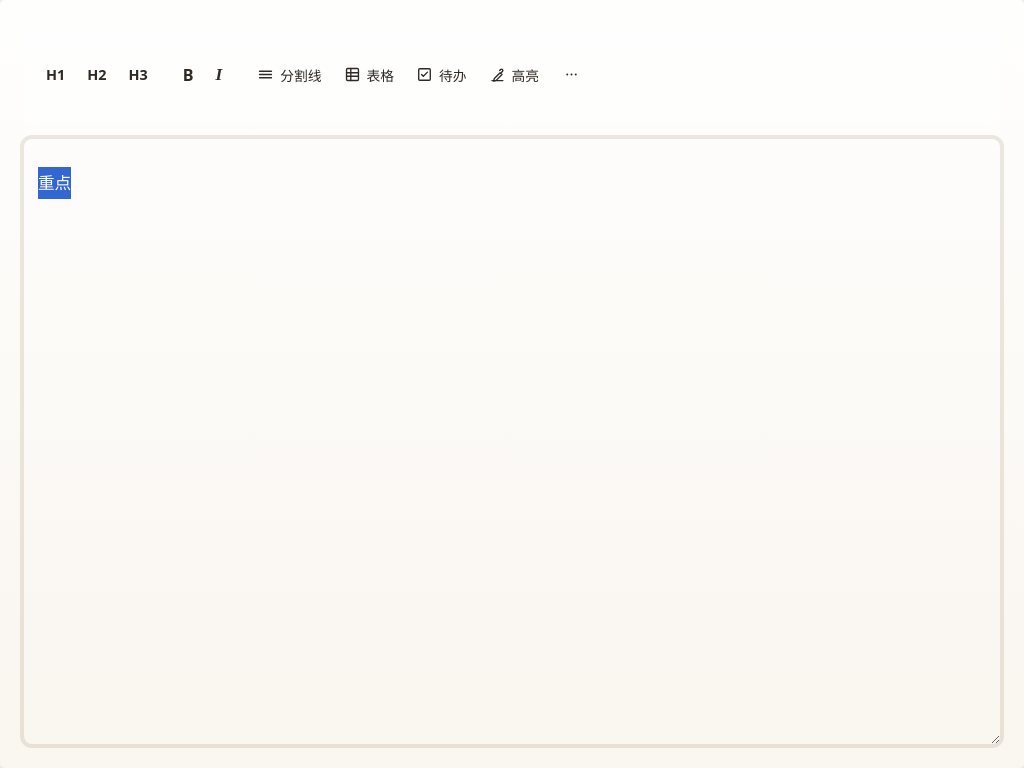
markdown editor › wraps a selection when the bold toolbar button is clicked
Click the button named "粗体" at (188,74), box 173,58 -> 204,92
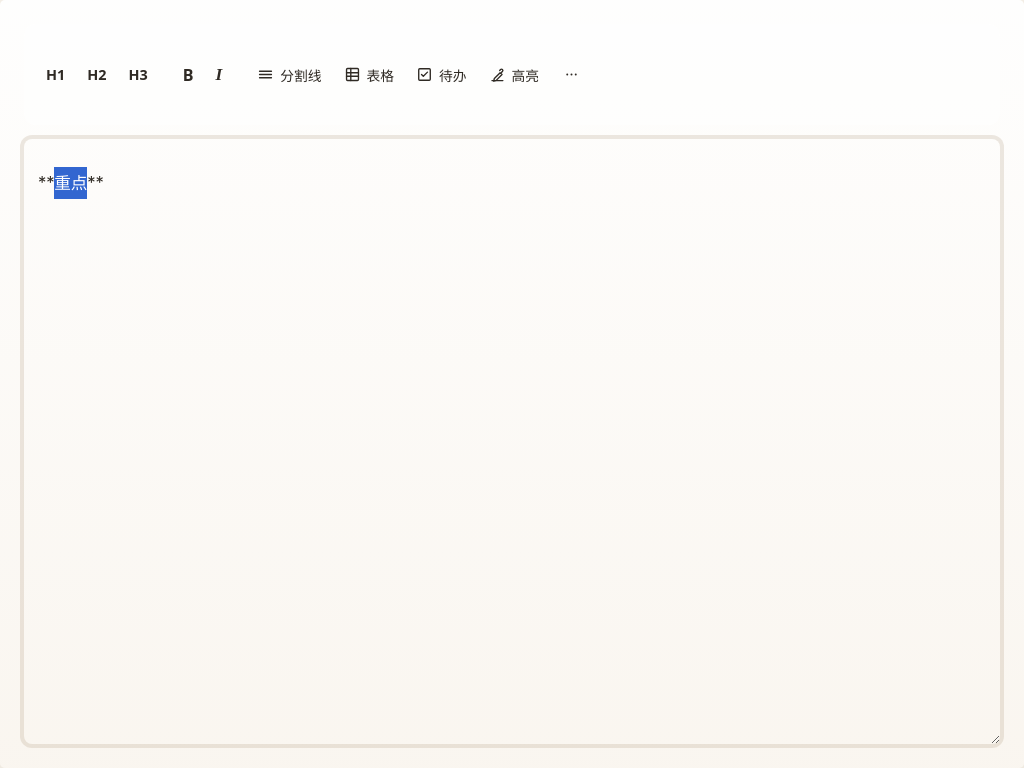
Check: the text box named "Markdown 编辑器" holds "**重点**"
